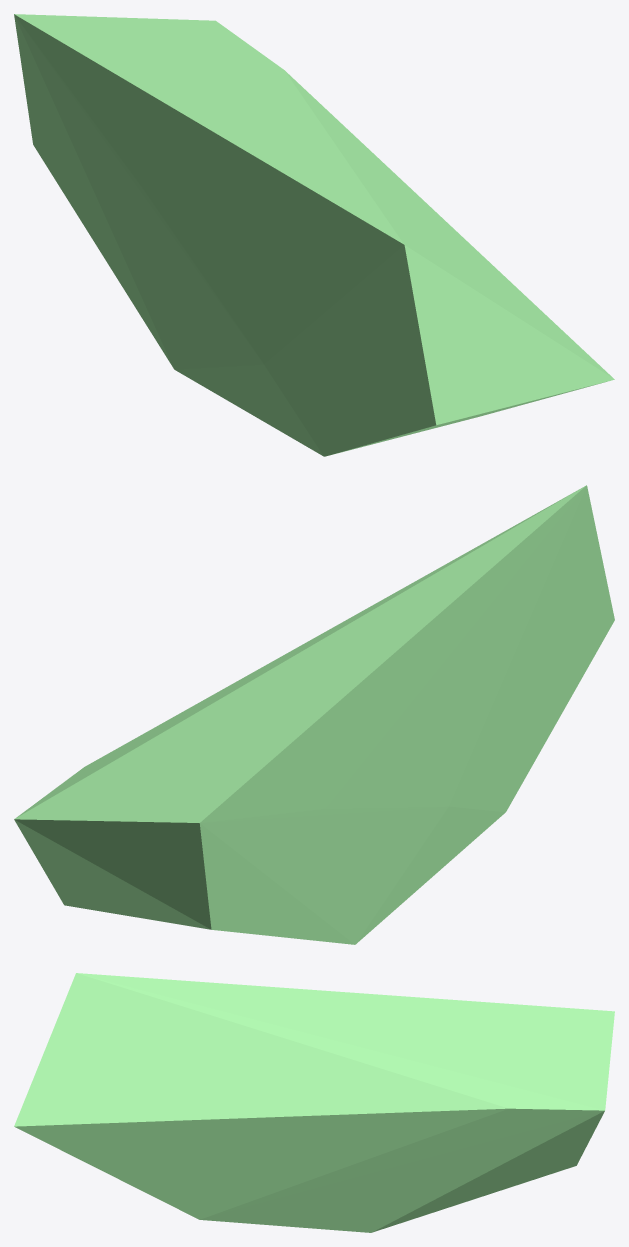
File: linkhou_LR4_R560_link7_respondable_coll_24.dae
3 views of the same model, one above another, from view 1: azimuth 30°, elevation 25°; view 2: azimuth 150°, elevation 25°; view 3: azimuth 270°, elevation 25° (orthographic). The views are drawn at different scales.
Visible parts, largest first — view 1: Node_00000209DB3AA780; view 2: Node_00000209DB3AA780; view 3: Node_00000209DB3AA780.
Boxes of the visible parts, x1,y1,x2,y2 form: Node_00000209DB3AA780: [14, 14, 614, 456]; Node_00000209DB3AA780: [14, 485, 614, 944]; Node_00000209DB3AA780: [14, 973, 614, 1232].
Bounding box in the file's own units: 0.00708 × 0.0103 × 0.0274.
